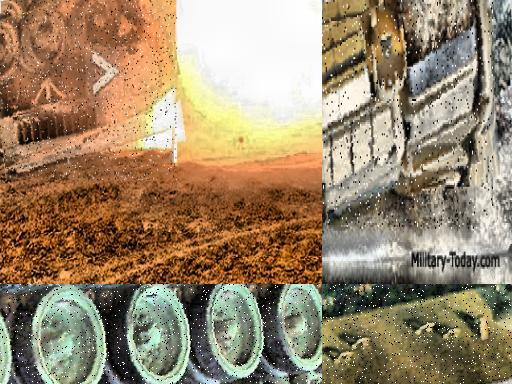tanks: (323, 1, 494, 230), (1, 285, 323, 384), (1, 1, 178, 181), (323, 285, 512, 384)
